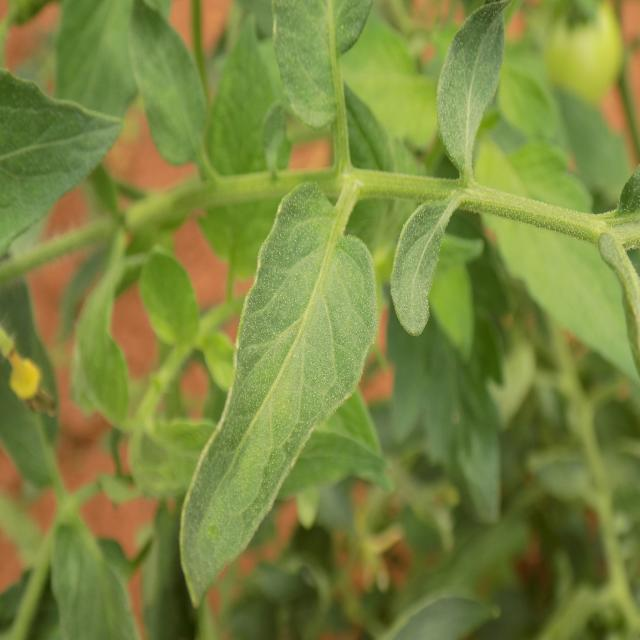tomato_healthy: (176, 189, 383, 609), (434, 0, 506, 182), (388, 194, 464, 334)
